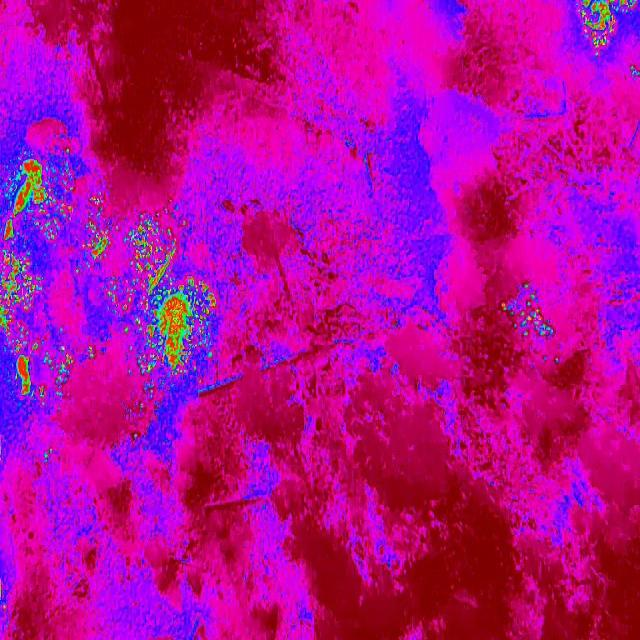fire: (0, 140, 80, 476), (79, 198, 218, 382), (571, 0, 640, 58), (499, 284, 560, 342)
